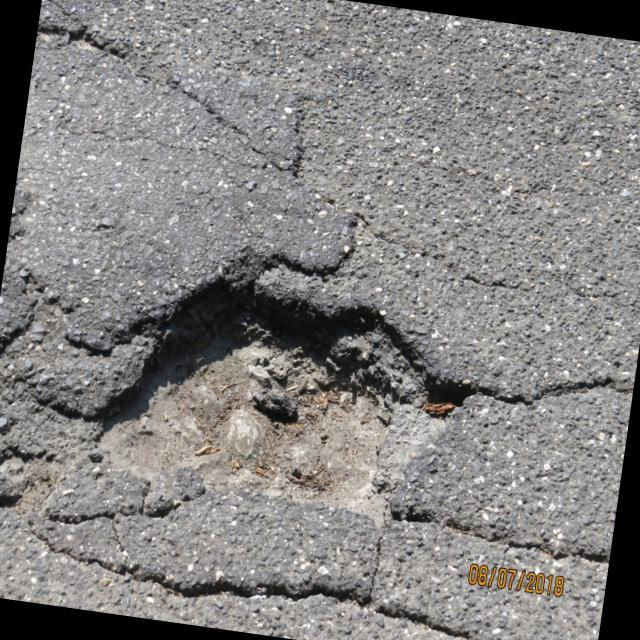Pothole: (92, 240, 468, 558)
